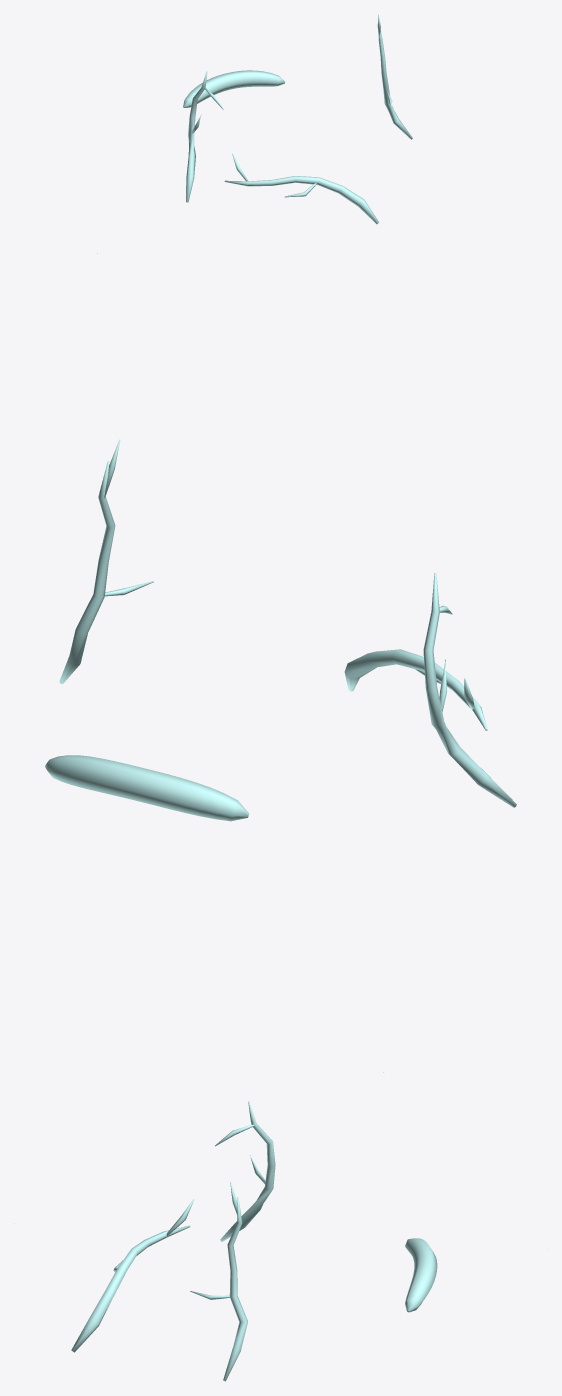
File: CreepStemGlow.glb
3 renders of one model, top to bottom at view 1: azimuth 30°, elevation 25°; view 2: azimuth 150°, elevation 25°; view 3: azimuth 270°, elevation 25°, orthographic. The views are drawn at different scales.
Visible parts, largest first — view 1: CreepStemGlow; view 2: CreepStemGlow; view 3: CreepStemGlow.
Part boxes in pixels (bbox=[...]): CreepStemGlow: bbox=[183, 14, 412, 224]; CreepStemGlow: bbox=[45, 253, 516, 1072]; CreepStemGlow: bbox=[14, 1101, 547, 1381].
Bounding box in the file's own units: 2 × 1.04 × 2.
